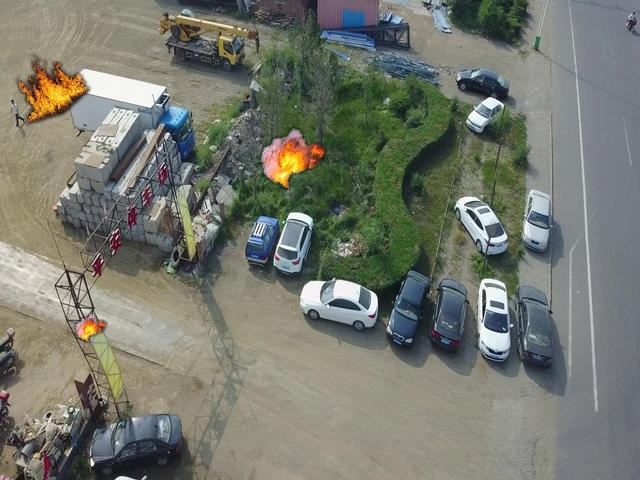fire: (15, 52, 91, 126), (259, 127, 326, 189), (74, 313, 106, 342)
